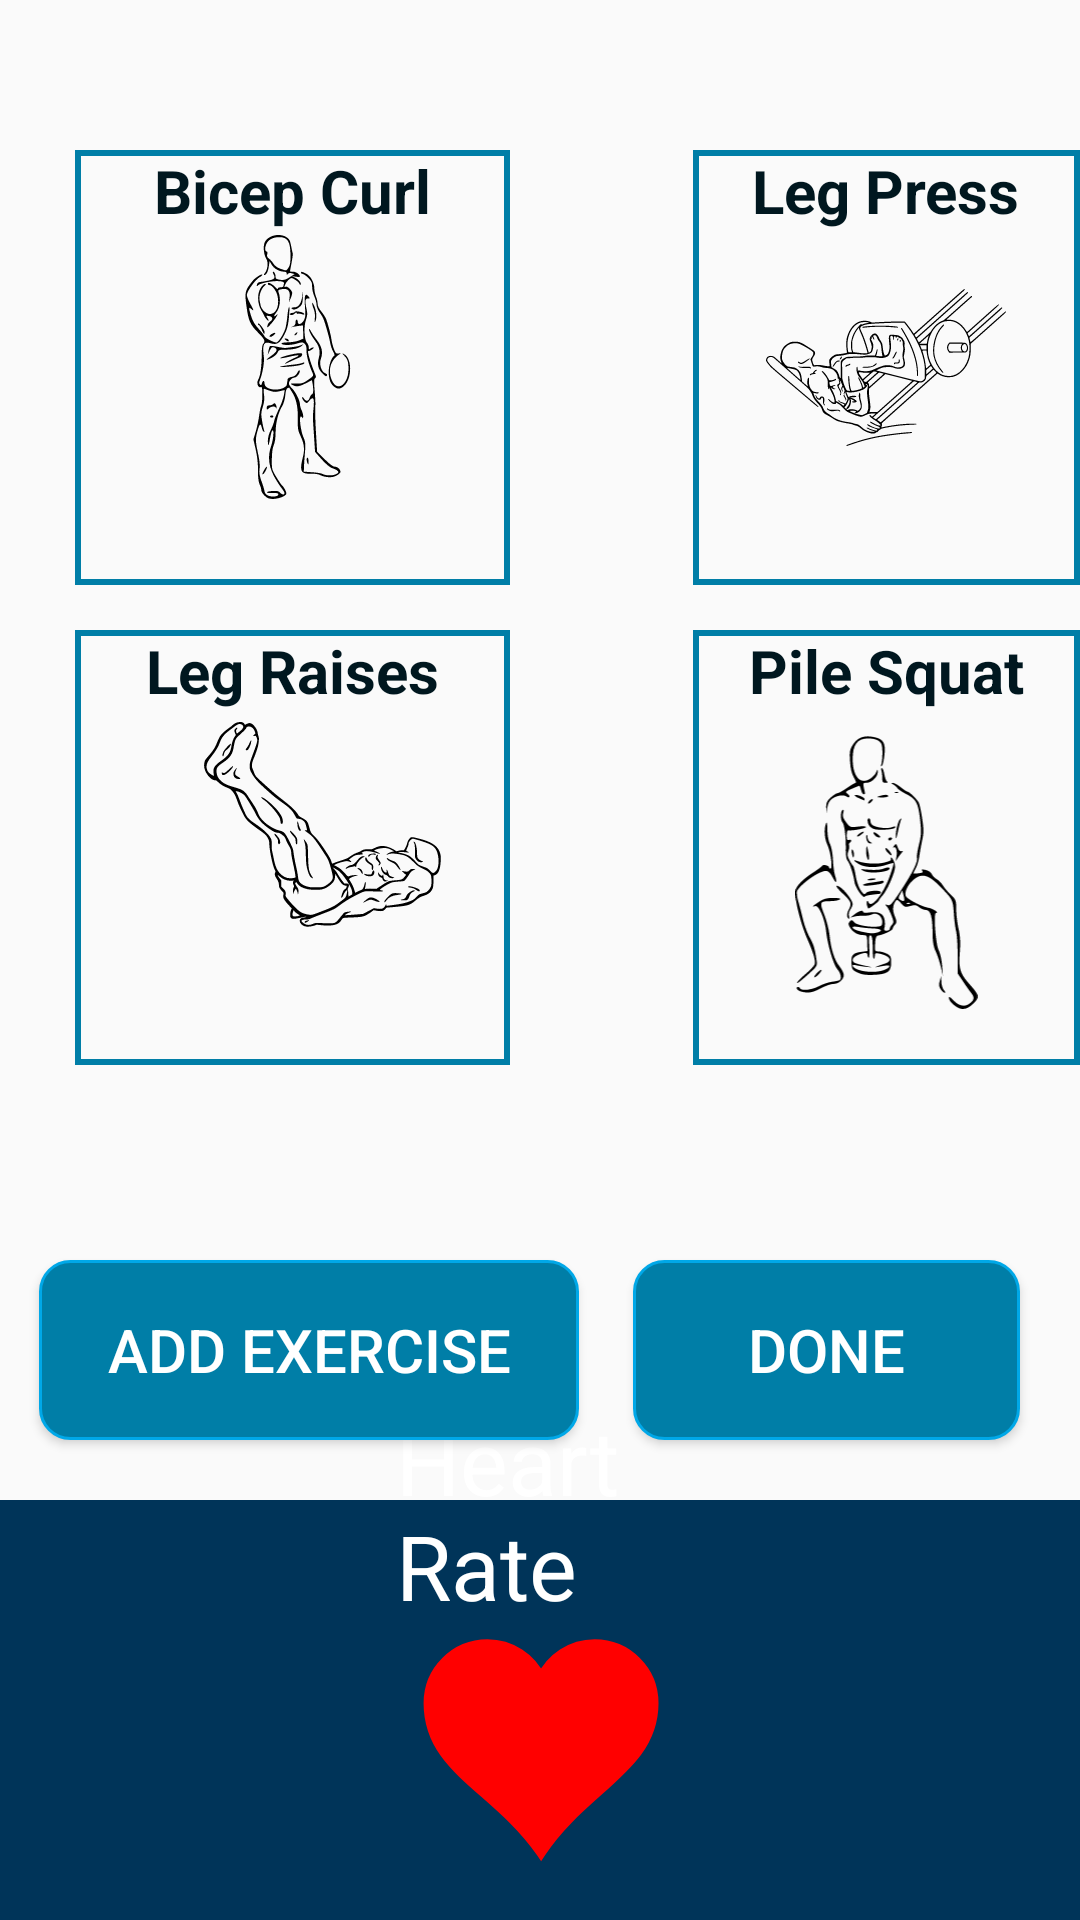

Named icons in this screenshot (1080w x 1920h) and their centers, (x,y):
fduv ts heart: (541,1750)
